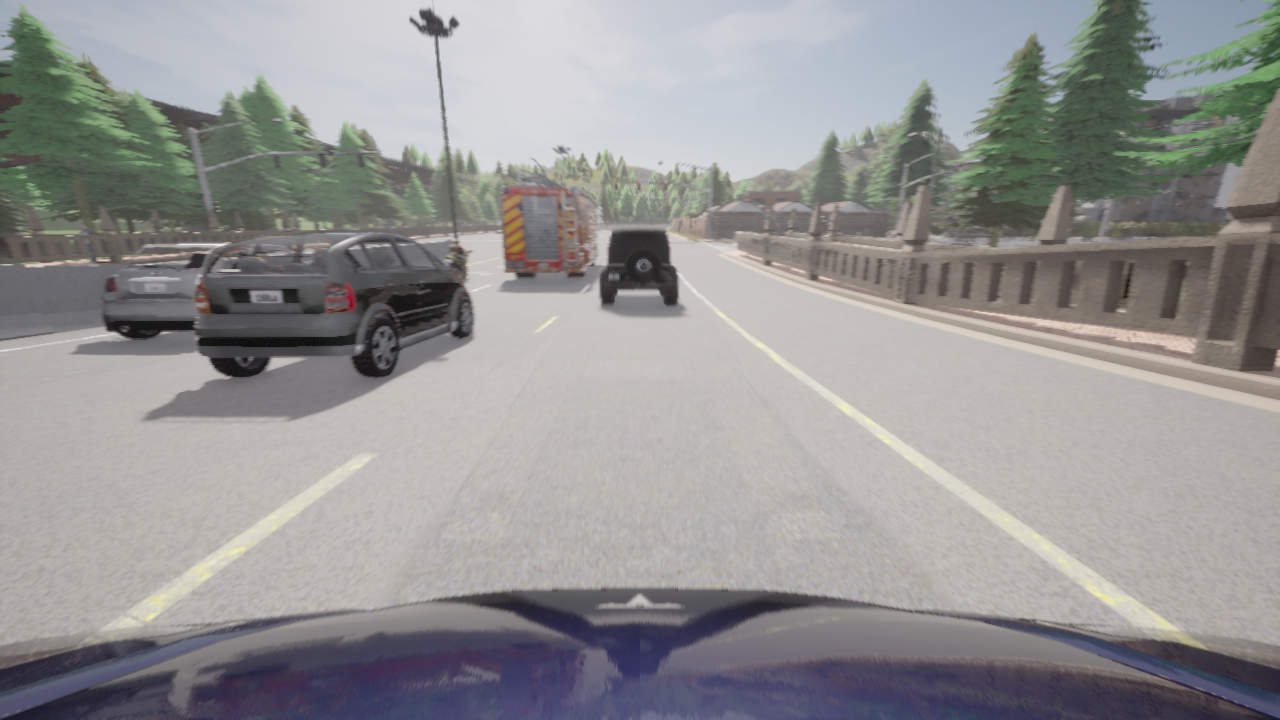cyclist: (0, 588, 1279, 719), (194, 232, 473, 378), (102, 243, 232, 339), (502, 174, 602, 277), (600, 227, 678, 304), (943, 227, 1010, 241), (443, 251, 471, 278)
pedestrian: (80, 226, 97, 261)
